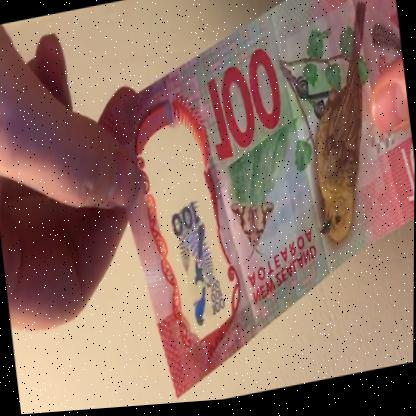100B: (161, 169, 233, 336)
